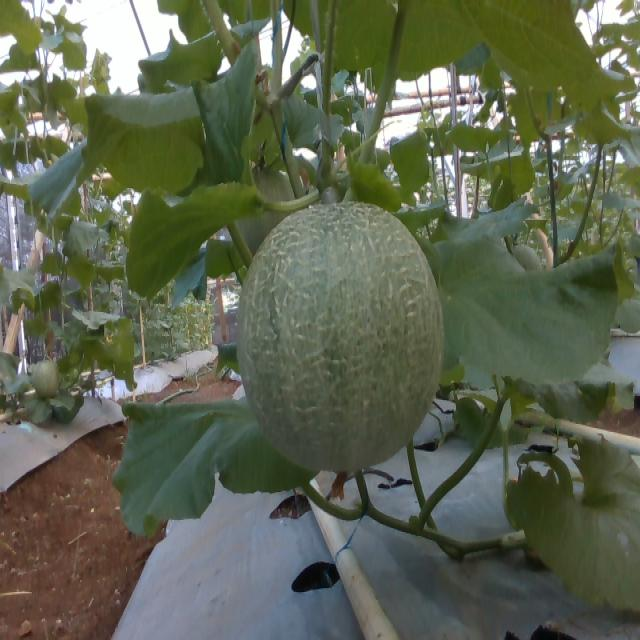melon: (239, 203, 442, 472)
